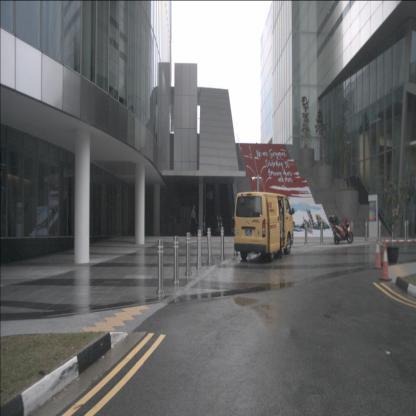cone: (380, 244, 393, 282), (374, 237, 382, 270)
